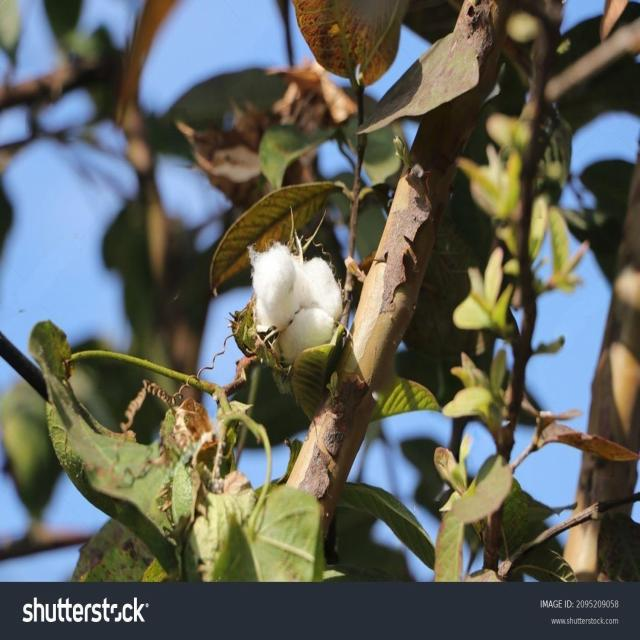Early_blight: (227, 235, 352, 376)
